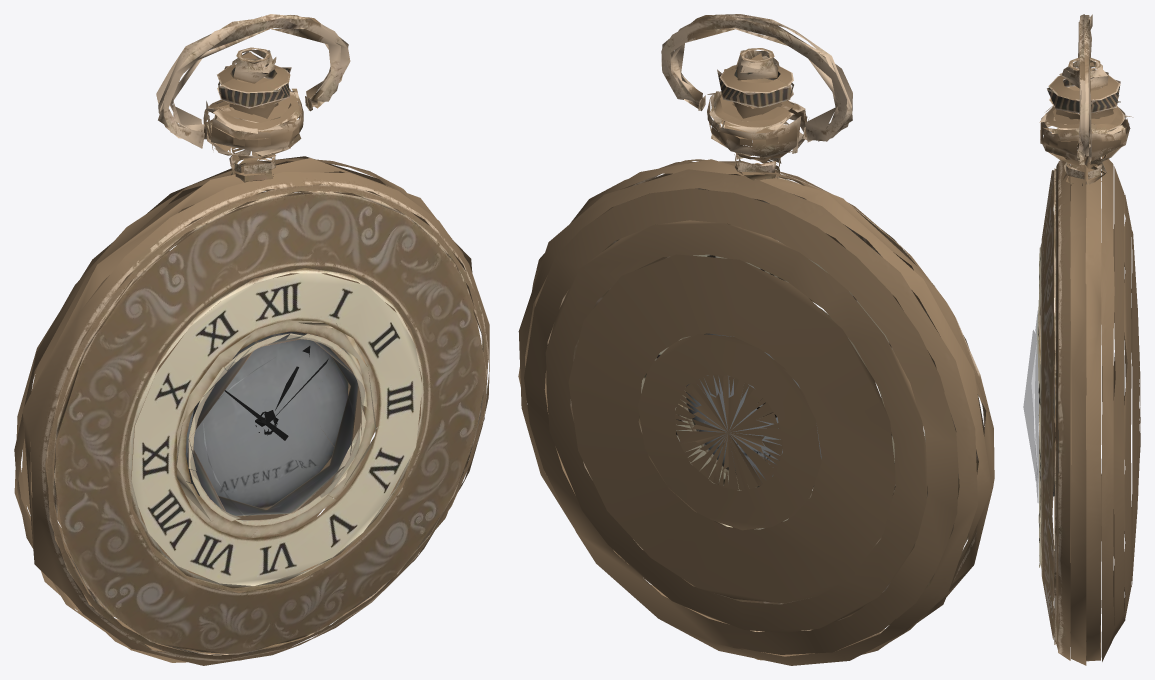
File: ph_vintage_pocket_watch.glb
The picture shows the model from 3 angles, left to right: view 1: azimuth 30°, elevation 25°; view 2: azimuth 150°, elevation 25°; view 3: azimuth 270°, elevation 25°; orthographic projection. The views are drawn at different scales.
Visible parts, largest first — view 1: vintage_pocket_watch; view 2: vintage_pocket_watch; view 3: vintage_pocket_watch.
Boxes of the visible parts, bbox=[...] form: vintage_pocket_watch: bbox=[14, 14, 489, 665]; vintage_pocket_watch: bbox=[518, 14, 994, 665]; vintage_pocket_watch: bbox=[1023, 14, 1140, 665].
Bounding box in the file's own units: 0.0616 × 0.0802 × 0.0139.
3 materials, 1 textured.
